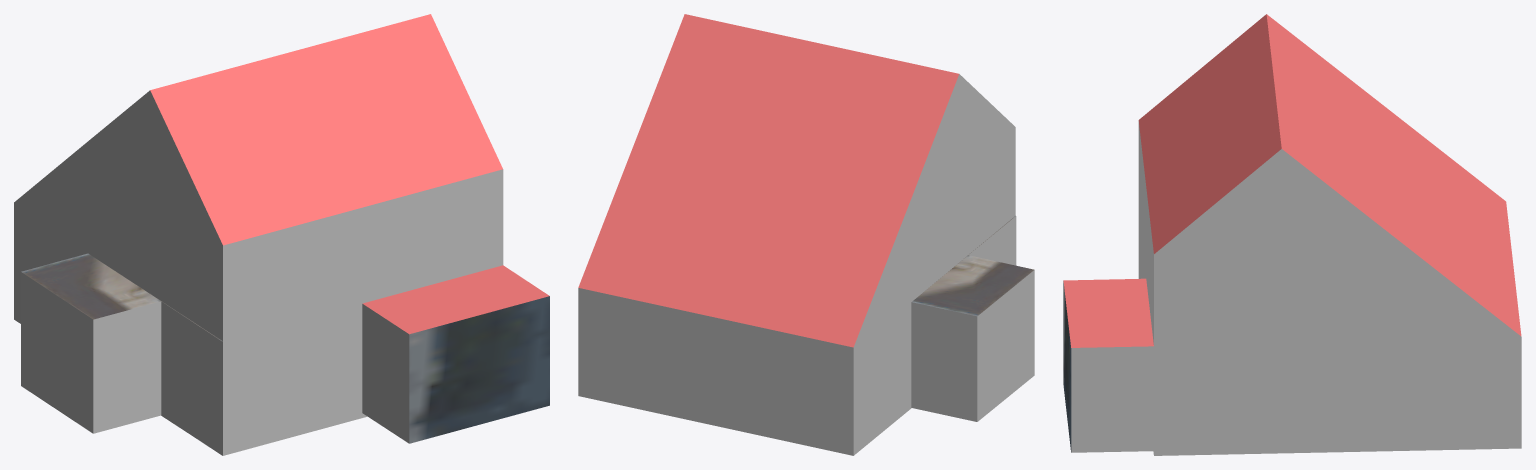
The model's file is DEBW_001000hpuK1.gltf.
3 views of the same model, side by side, from view 1: azimuth 30°, elevation 25°; view 2: azimuth 150°, elevation 25°; view 3: azimuth 270°, elevation 25° (orthographic). The views are drawn at different scales.
Parts seen in each view (by area): view 1: Z_UP; view 2: Z_UP; view 3: Z_UP.
Boxes of the visible parts, bbox=[...] form: Z_UP: bbox=[14, 14, 549, 455]; Z_UP: bbox=[578, 14, 1034, 455]; Z_UP: bbox=[1063, 14, 1521, 455].
Bounding box in the file's own units: 12.86 × 10.52 × 14.33.
3 materials, 1 textured.
